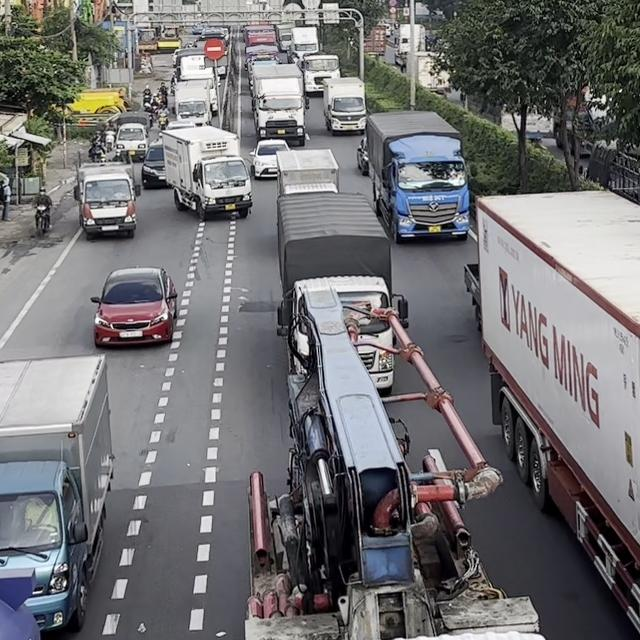car: (89, 266, 177, 348), (248, 138, 290, 179), (141, 143, 167, 188)
motorcycle: (34, 202, 51, 234), (88, 140, 105, 163)
truck: (244, 274, 547, 639), (472, 187, 639, 639), (0, 352, 114, 633), (275, 191, 400, 393), (360, 109, 470, 244), (159, 123, 252, 220), (248, 62, 309, 146), (73, 166, 137, 239), (274, 147, 340, 197), (321, 76, 367, 135), (114, 111, 150, 165)
